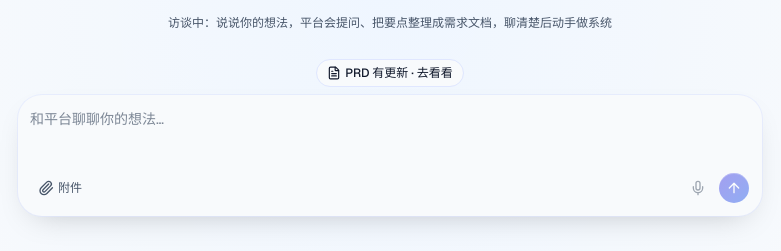
Test: CommandArea · 修订胶囊（#20 修订回路） › 点击「去看看」：认领（pending 清）+ 跳转回调，胶囊即逝
Click the button "PRD 有更新 · 去看看": (390, 73) [316, 59, 464, 87]
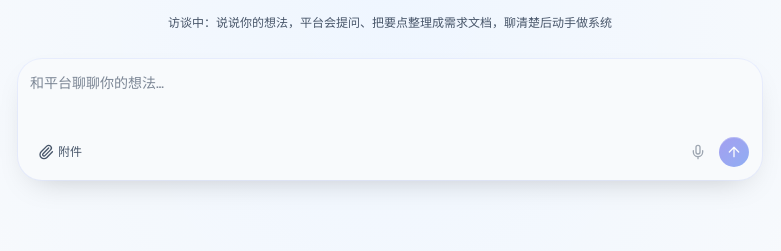
Expected: the button "PRD 有更新" is gone
